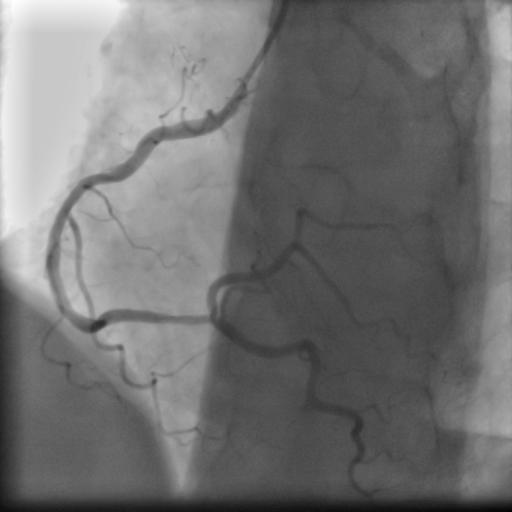Stenosis: (154, 307, 209, 333)
